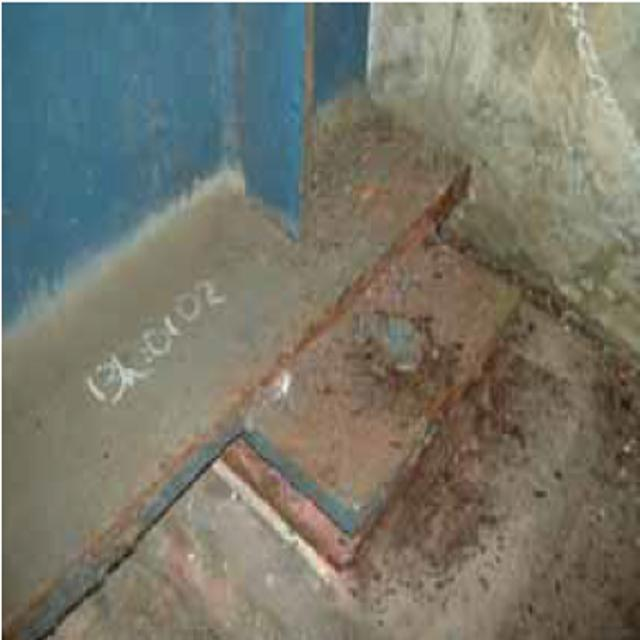corrosion: (203, 117, 576, 587)
